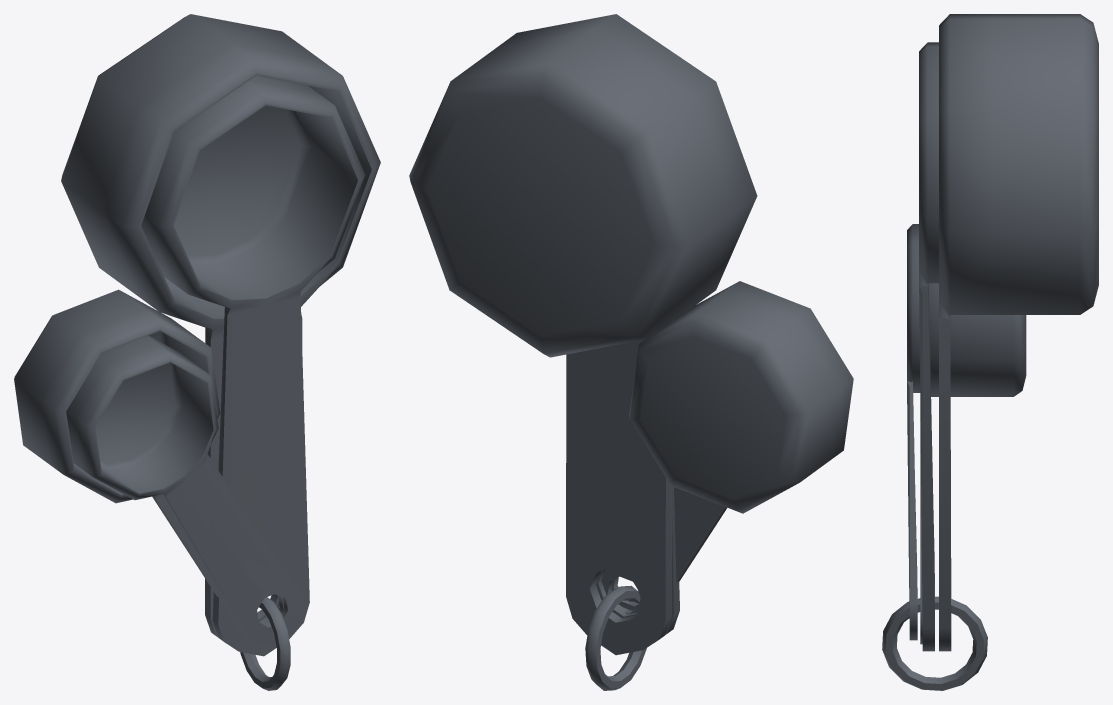
Rendered from Measuring Spoons-IfAc3pnISo.glb.
3 views of the same model, side by side, from view 1: azimuth 30°, elevation 25°; view 2: azimuth 150°, elevation 25°; view 3: azimuth 270°, elevation 25° (orthographic). The views are drawn at different scales.
Parts seen in each view (by area): view 1: mspoon_measuring_spoon_stack_large_w/ring_Cylinder.044; view 2: mspoon_measuring_spoon_stack_large_w/ring_Cylinder.044; view 3: mspoon_measuring_spoon_stack_large_w/ring_Cylinder.044.
Boxes of the visible parts, x1,y1,x2,y2 form: mspoon_measuring_spoon_stack_large_w/ring_Cylinder.044: (14,14,380,690); mspoon_measuring_spoon_stack_large_w/ring_Cylinder.044: (409,14,853,690); mspoon_measuring_spoon_stack_large_w/ring_Cylinder.044: (882,14,1098,690).
Size of the model in its own units: 2.11 by 3.73 by 1.1.
1 material, 1 textured.
